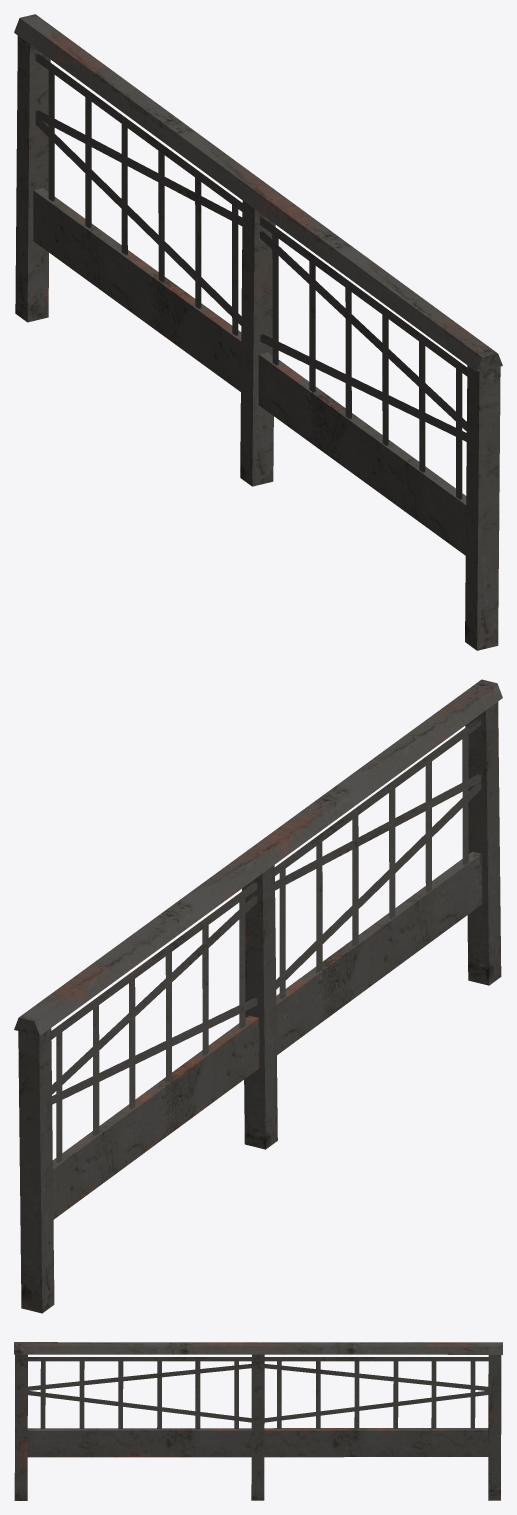
The model's file is hurdle.fbx.
The picture shows the model from 3 angles, top to bottom: view 1: azimuth 30°, elevation 25°; view 2: azimuth 150°, elevation 25°; view 3: azimuth 270°, elevation 25°; orthographic projection. The views are drawn at different scales.
Parts seen in each view (by area): view 1: SP_TNR_MetalFence_1; view 2: SP_TNR_MetalFence_1; view 3: SP_TNR_MetalFence_1.
Boxes of the visible parts, box(x1,y1,x2,y2) form: SP_TNR_MetalFence_1: box(14, 14, 502, 650); SP_TNR_MetalFence_1: box(14, 679, 502, 1313); SP_TNR_MetalFence_1: box(14, 1342, 502, 1500).
Bounding box in the file's own units: 9.49 × 98.47 × 282.
